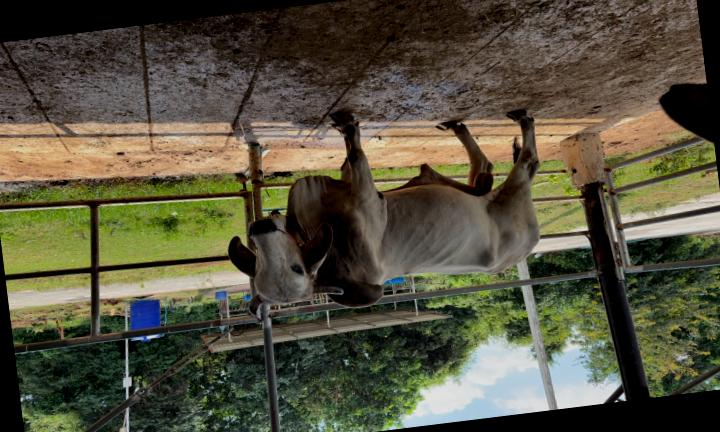Brahman: (227, 111, 539, 315)
